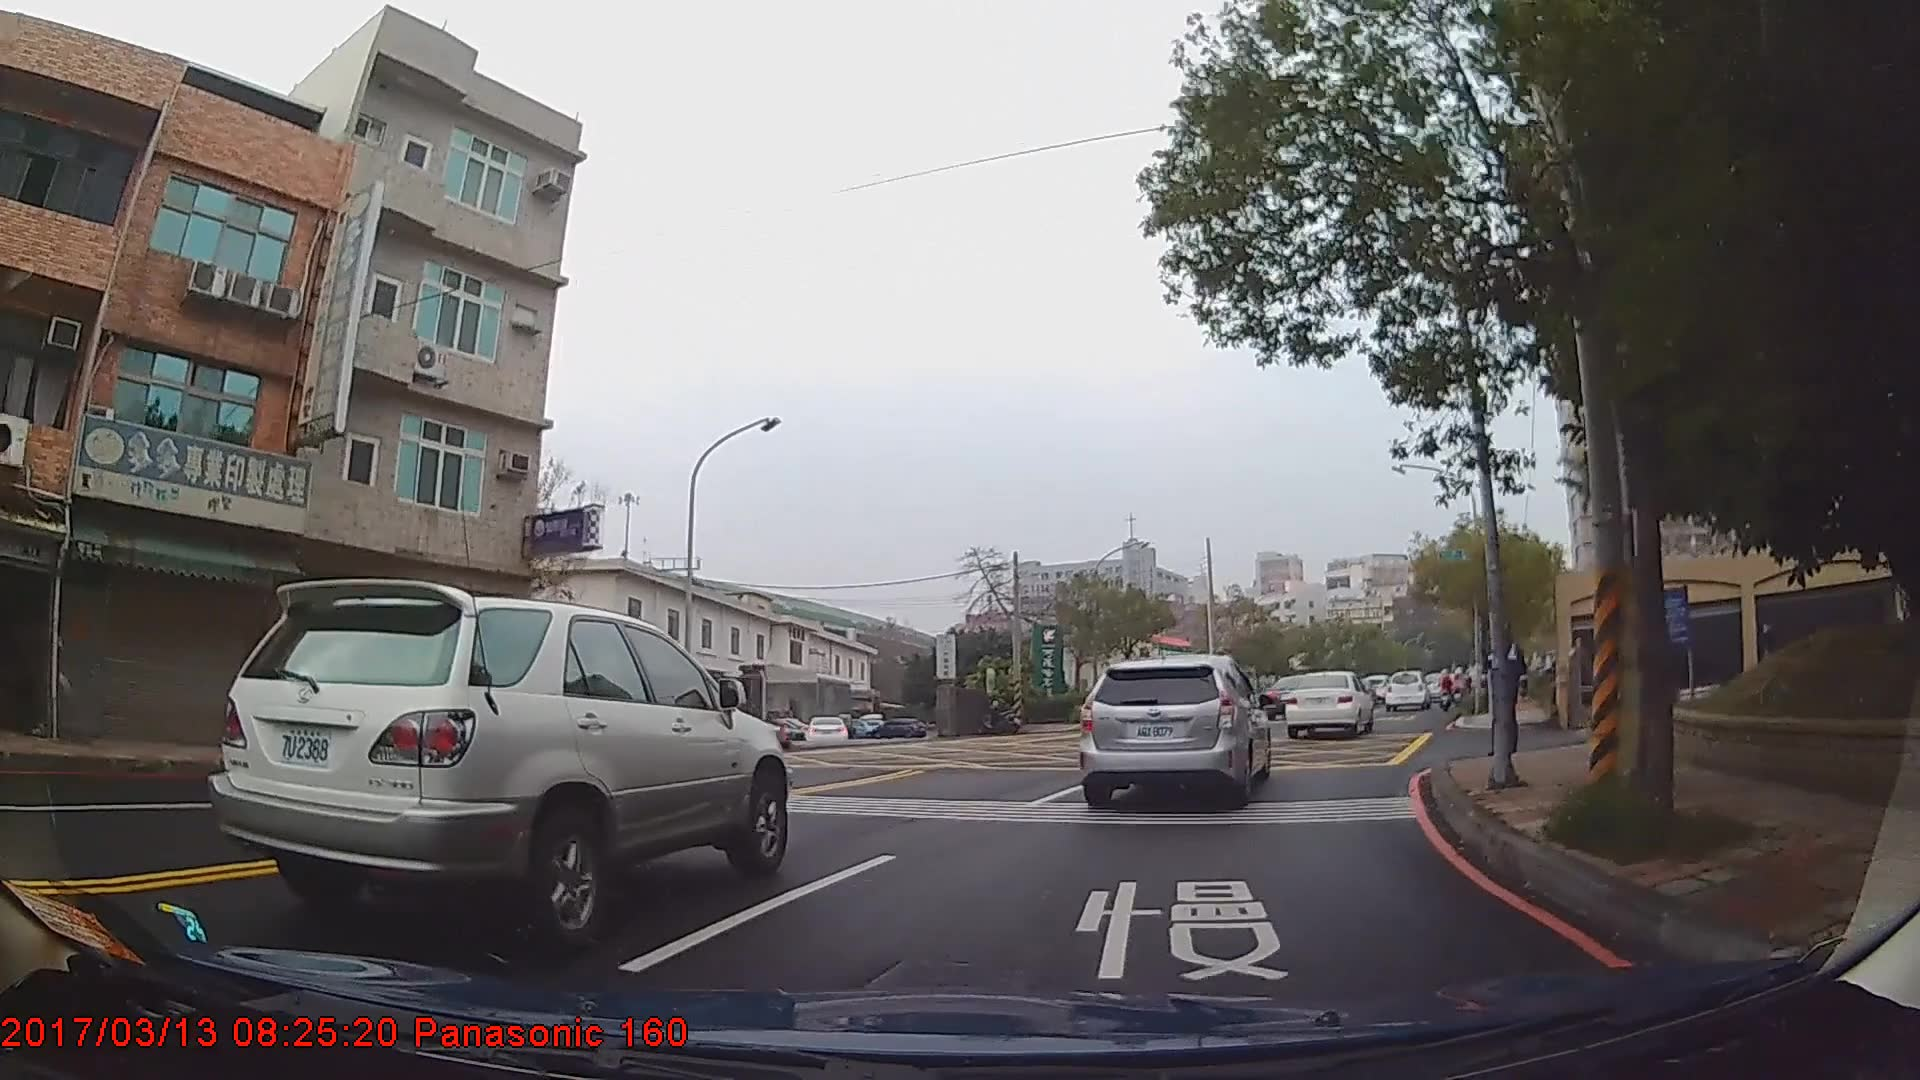pedestrian: (1487, 622, 1529, 756)
vehicle: (204, 577, 790, 944), (1076, 652, 1273, 814), (1282, 671, 1374, 736), (1381, 669, 1432, 712), (868, 718, 929, 740), (805, 715, 850, 744)
